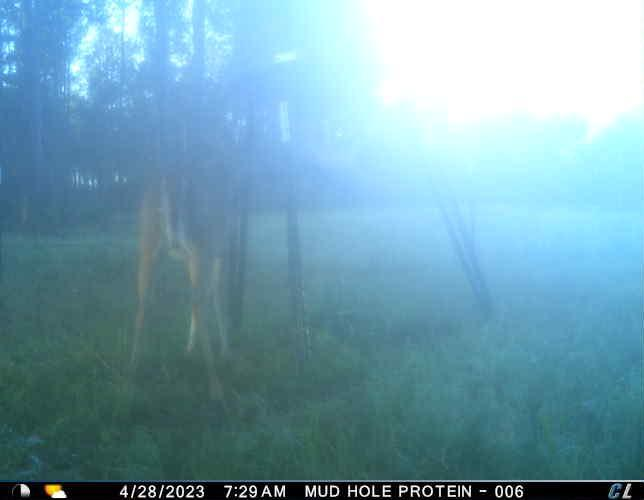Deer: (122, 151, 250, 406)
